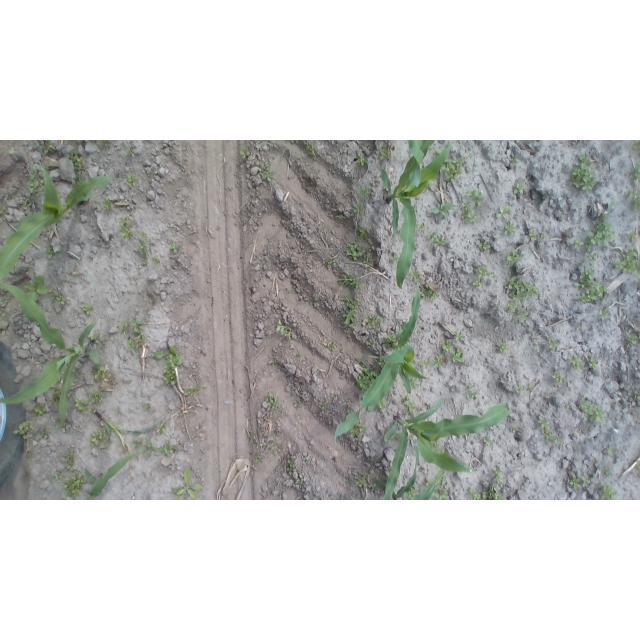Maize: (334, 283, 430, 444), (2, 283, 99, 425), (1, 167, 116, 283), (384, 399, 511, 500), (380, 140, 452, 290), (379, 447, 447, 499), (91, 407, 157, 453), (82, 454, 137, 498)
Weeds: (574, 266, 607, 302), (173, 469, 203, 500), (586, 218, 616, 248), (121, 317, 147, 351), (505, 275, 540, 299), (570, 166, 598, 192), (153, 345, 183, 367), (614, 247, 638, 274), (355, 362, 378, 390), (25, 275, 49, 301), (580, 401, 607, 423), (345, 243, 371, 265), (505, 301, 529, 323), (64, 476, 86, 500), (442, 158, 464, 182), (473, 266, 495, 289), (65, 150, 86, 173), (344, 474, 373, 489), (482, 483, 505, 500), (12, 421, 32, 440), (135, 230, 150, 255), (340, 273, 363, 289), (91, 430, 108, 451), (275, 321, 293, 340), (462, 203, 479, 223), (28, 170, 41, 195), (33, 140, 55, 154), (431, 202, 453, 216), (163, 366, 178, 386), (368, 315, 385, 332), (43, 243, 59, 261), (120, 217, 132, 241), (506, 249, 521, 268), (574, 154, 592, 169), (600, 485, 618, 500), (50, 291, 68, 306), (251, 449, 264, 469), (489, 466, 505, 482), (569, 354, 585, 370), (343, 311, 358, 328), (39, 426, 53, 444), (163, 441, 178, 457), (260, 166, 276, 181), (468, 189, 485, 203), (157, 419, 170, 437), (146, 441, 159, 459), (546, 333, 558, 352), (424, 285, 440, 299), (495, 205, 511, 219), (344, 298, 361, 311), (65, 451, 76, 471), (351, 423, 365, 438), (92, 366, 107, 380), (319, 395, 331, 412), (168, 240, 180, 257), (100, 198, 112, 215), (571, 237, 583, 254), (380, 145, 392, 162), (51, 388, 62, 406), (287, 455, 298, 473), (503, 221, 517, 235), (20, 200, 35, 213), (537, 416, 552, 429), (435, 486, 450, 499), (358, 185, 373, 198), (632, 162, 640, 185), (626, 332, 639, 346), (434, 233, 447, 247), (268, 395, 281, 409), (75, 398, 87, 413), (452, 349, 464, 364), (599, 308, 612, 321), (125, 174, 139, 186), (481, 436, 495, 448), (467, 385, 479, 399), (411, 269, 422, 284), (185, 385, 200, 396), (569, 473, 580, 488), (386, 335, 397, 350), (627, 230, 639, 243), (453, 330, 466, 342), (479, 239, 491, 252), (353, 204, 365, 217), (91, 390, 103, 403), (443, 339, 454, 353), (542, 430, 557, 440), (631, 191, 638, 212), (605, 444, 617, 456), (34, 404, 46, 416), (497, 341, 509, 353), (511, 155, 522, 168), (292, 396, 303, 409), (513, 183, 524, 196), (552, 373, 565, 384), (239, 146, 249, 160), (141, 400, 152, 412), (405, 400, 416, 412), (432, 356, 443, 368), (357, 155, 368, 167), (325, 258, 337, 269), (99, 141, 112, 151), (248, 433, 259, 444), (420, 358, 431, 369), (366, 339, 376, 351), (125, 145, 135, 157), (305, 144, 315, 156), (83, 304, 93, 316), (378, 401, 389, 411), (528, 229, 538, 240), (132, 437, 142, 448), (587, 253, 597, 264), (589, 357, 598, 369), (323, 341, 335, 350), (468, 490, 480, 499), (358, 226, 366, 239), (53, 470, 63, 480), (599, 208, 610, 217), (310, 297, 319, 308), (418, 223, 427, 234), (405, 490, 416, 499), (0, 202, 6, 217), (528, 383, 537, 393), (582, 476, 591, 486), (267, 360, 279, 367), (8, 148, 17, 157), (512, 424, 520, 434), (289, 286, 297, 296), (516, 385, 526, 393), (90, 334, 100, 342), (379, 358, 386, 369), (540, 232, 547, 243), (336, 215, 347, 222), (467, 151, 476, 159), (268, 412, 276, 421), (152, 258, 160, 267), (393, 252, 399, 264), (603, 466, 612, 474), (295, 352, 303, 360), (556, 437, 564, 445), (610, 201, 617, 210), (576, 322, 583, 331), (525, 329, 534, 336), (635, 141, 640, 153), (435, 148, 442, 155), (534, 346, 541, 353), (634, 392, 640, 400), (315, 370, 321, 377)
